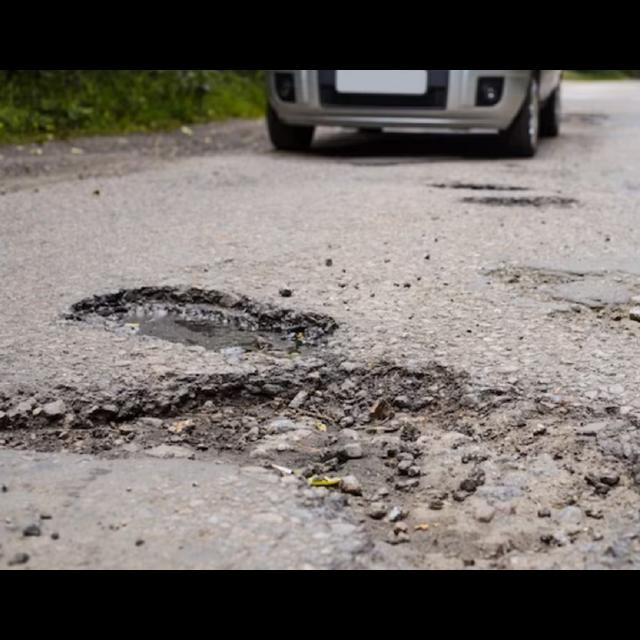lubang_kecil: (0, 342, 640, 568), (51, 266, 349, 368), (421, 170, 603, 222), (460, 241, 596, 296), (552, 276, 640, 335)
